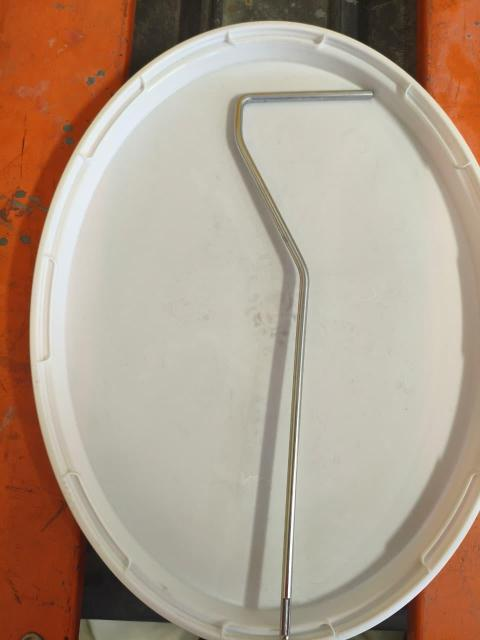Metal: (202, 80, 383, 640)
